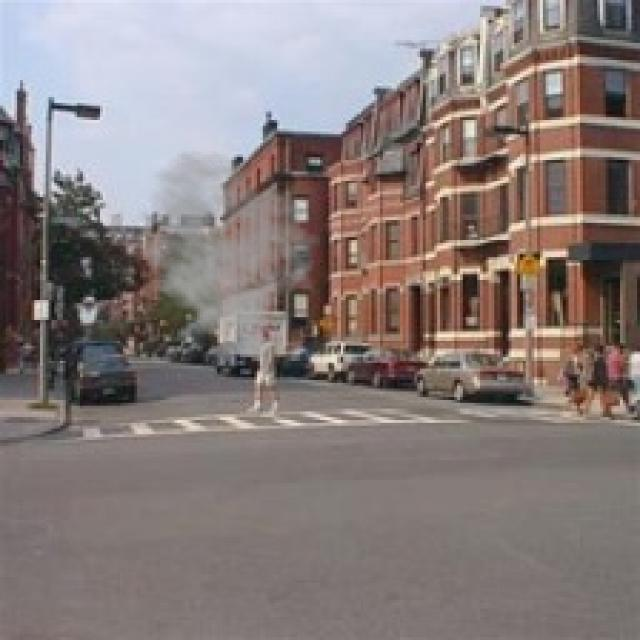Smoke: (123, 148, 323, 363)
